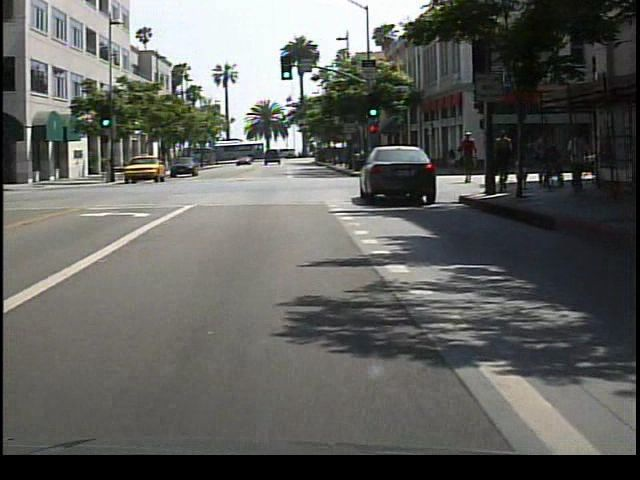person: (459, 130, 483, 189)
